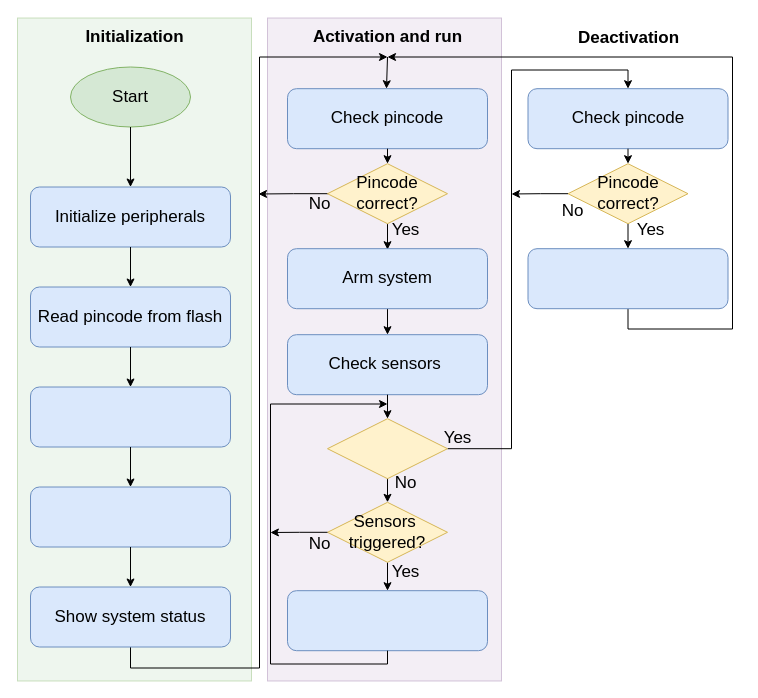
Some shapes in this 758 by 698 pixel diagram are drawn without their labels. Here are the shapes that lost their labels. From the top down, the centre of each, then its label:
(x=627, y=278): Disarm system
(x=130, y=416): Scan I2C devices
(x=387, y=448): Disarm button pressed?
(x=130, y=516): Request IP from ESP32
(x=387, y=620): Start alarm
